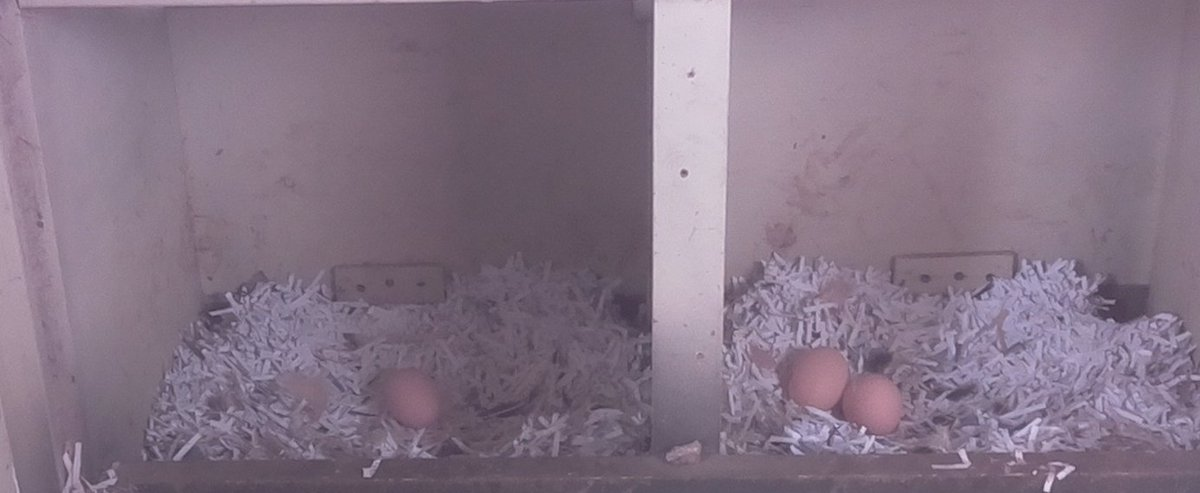egg: (783, 342, 855, 419), (838, 371, 907, 443), (380, 365, 446, 430)
